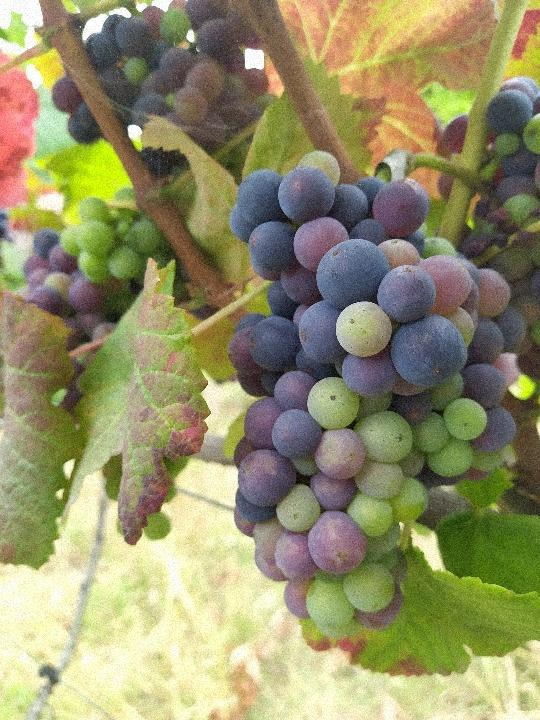grape: (225, 149, 523, 639)
